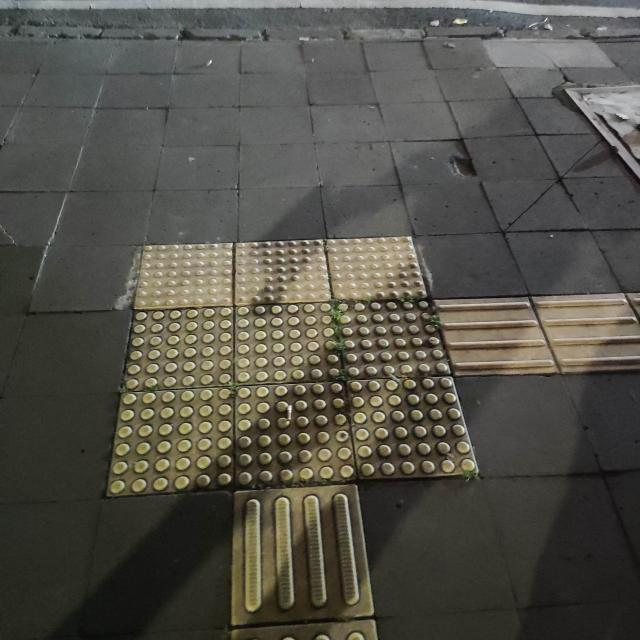kanan: (169, 273, 640, 570)
